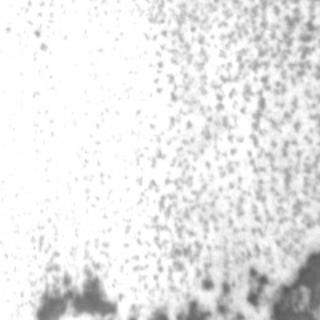patches: (246, 250, 318, 318), (30, 264, 114, 318)
pitted_surface: (117, 0, 317, 276)
